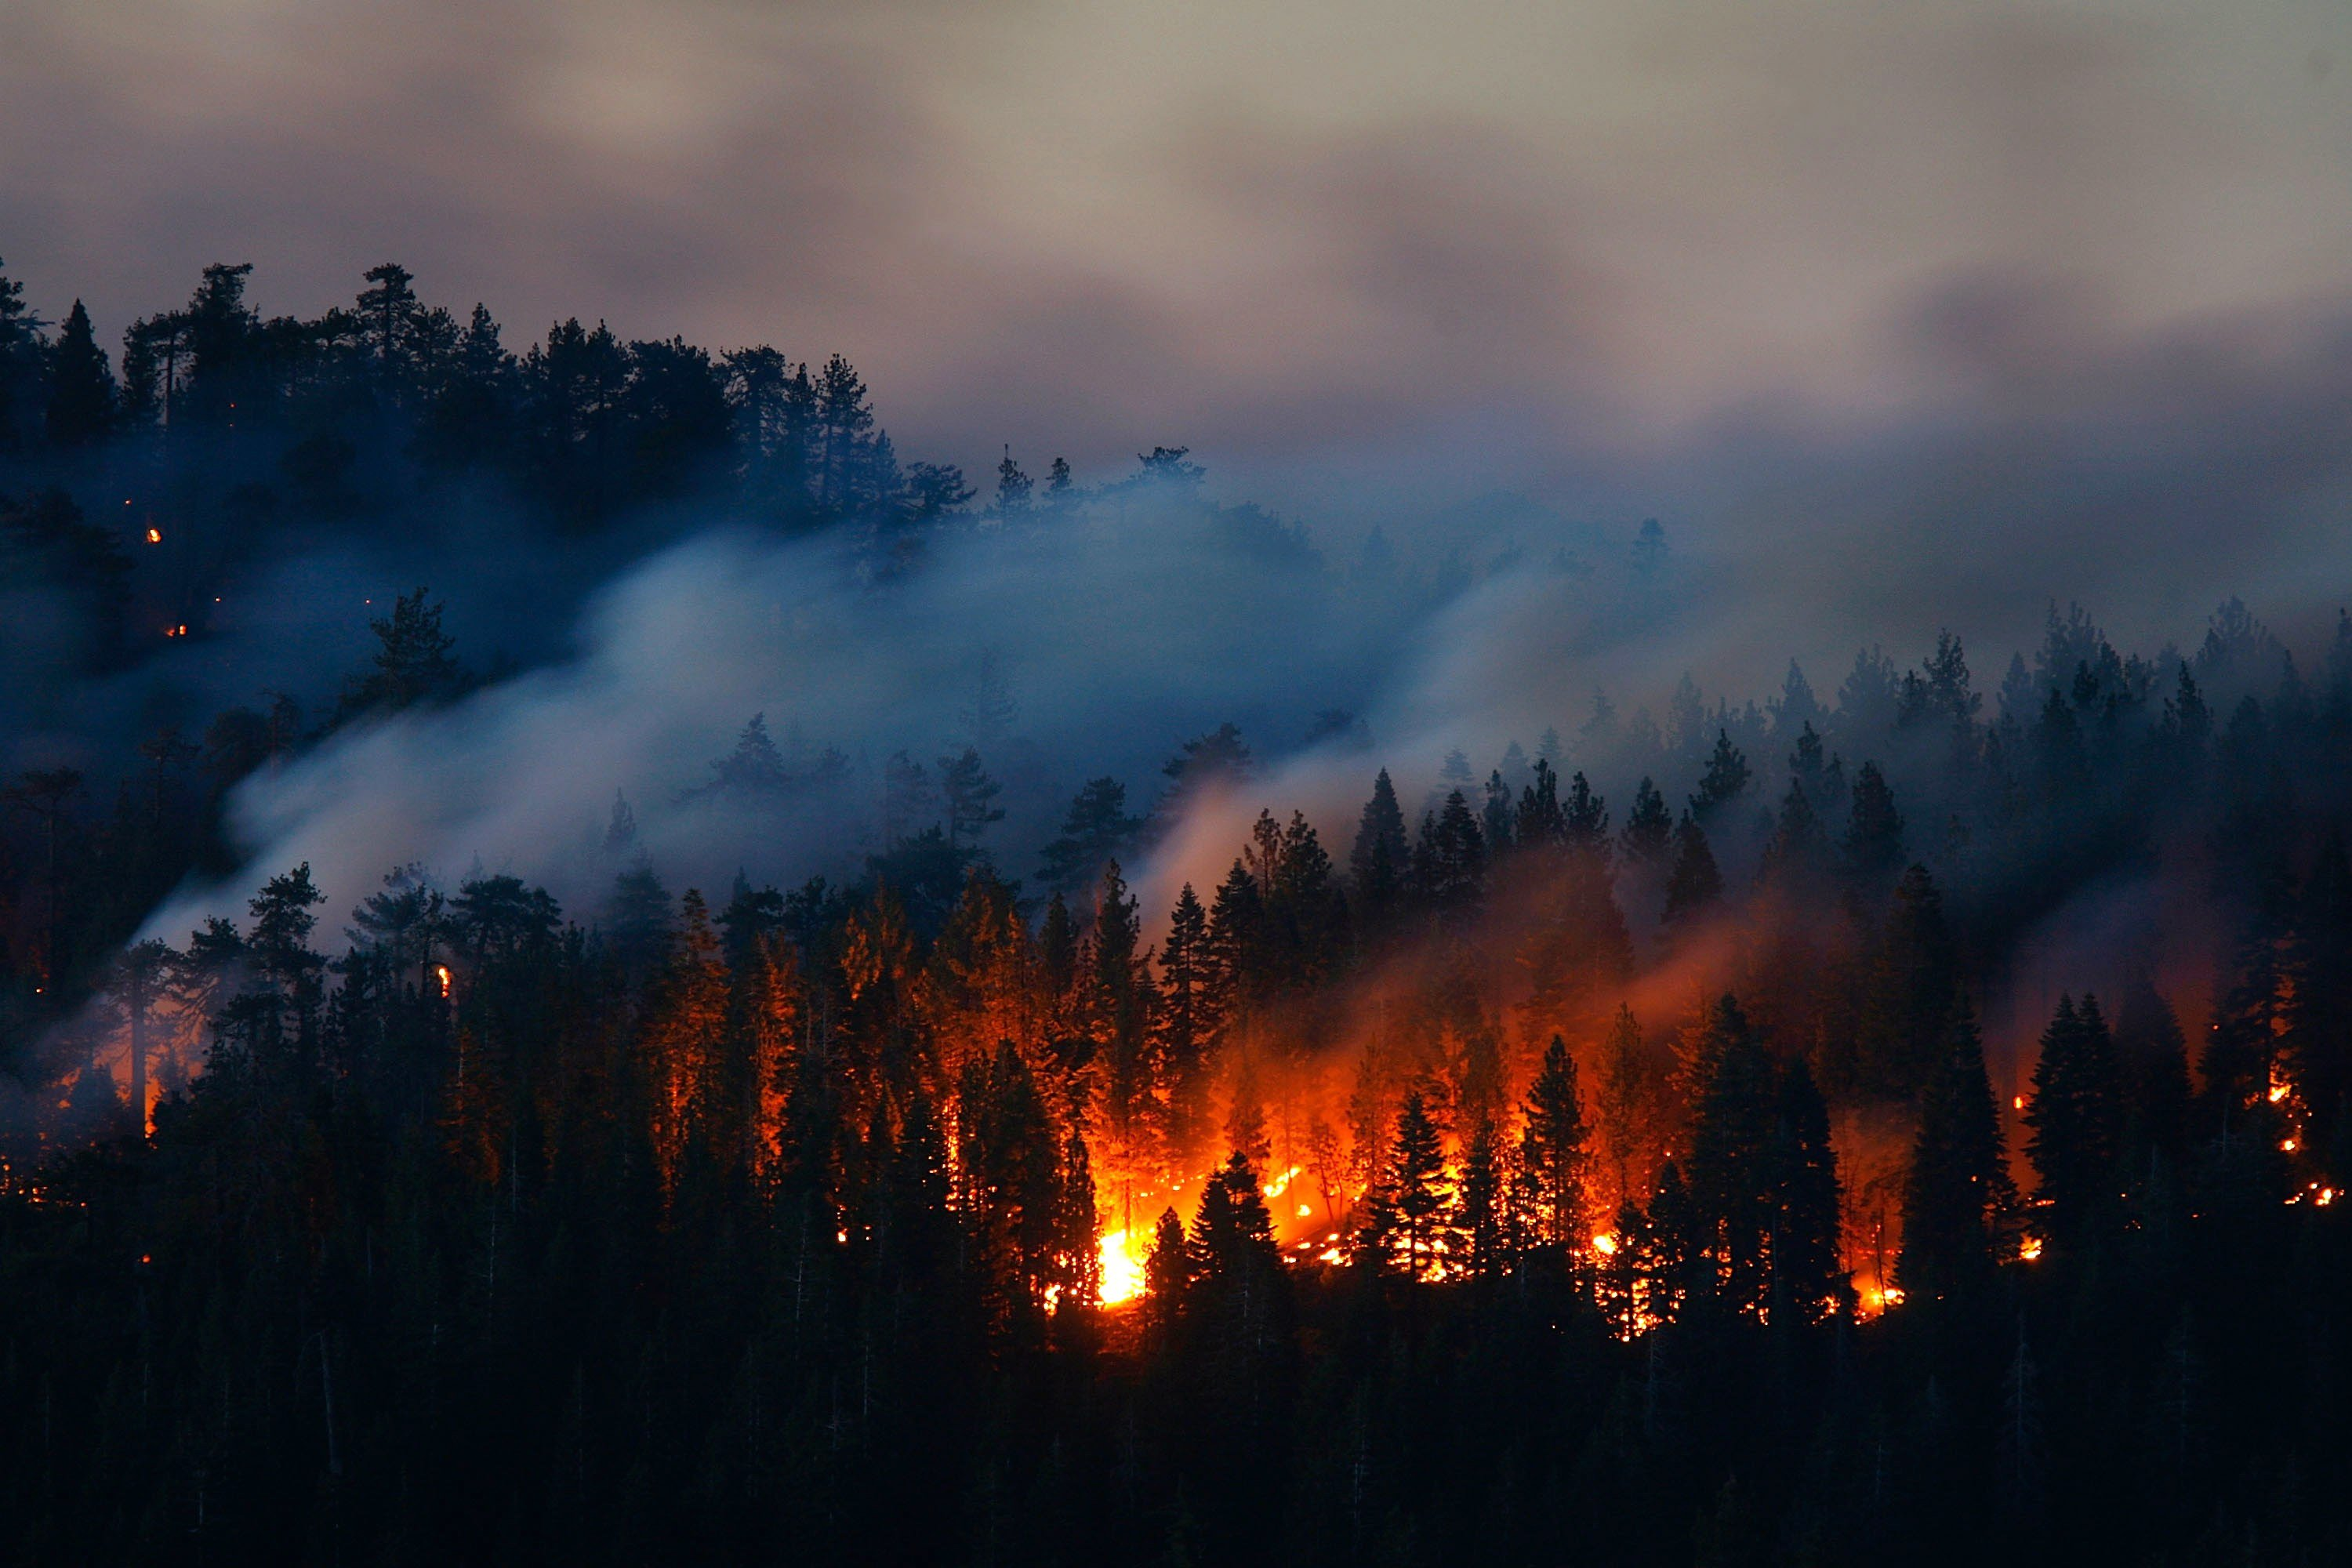fire: (656, 976, 2061, 1351), (9, 912, 224, 1157)
